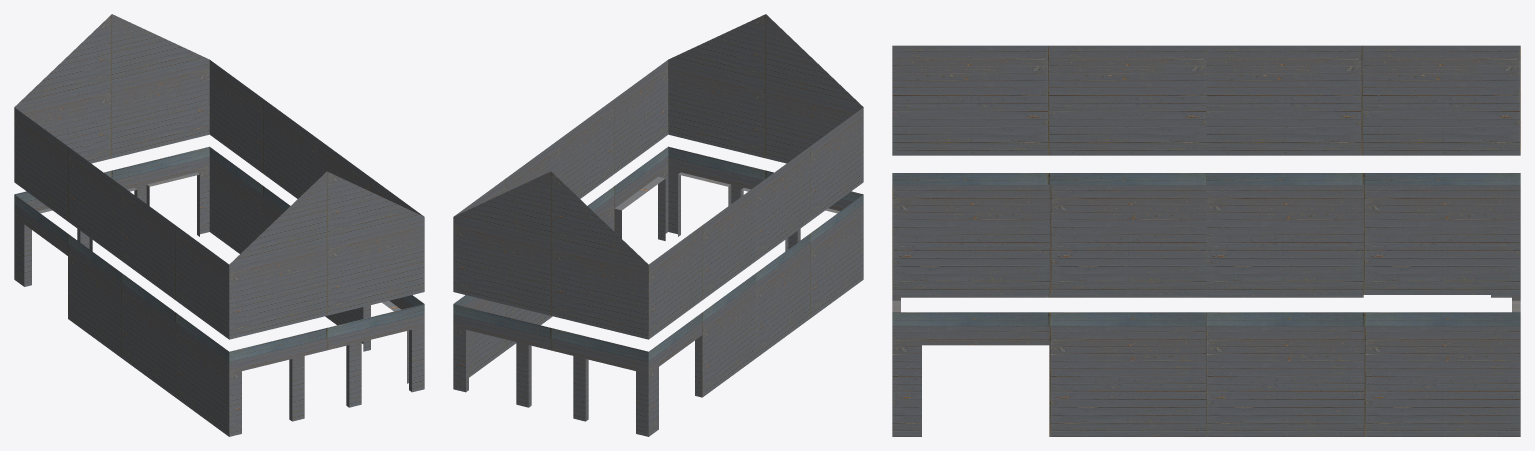
File: rural_woodenbuilding_5_rural_walltrim_1_0_lev2.glb
The picture shows the model from 3 angles, left to right: view 1: azimuth 30°, elevation 25°; view 2: azimuth 150°, elevation 25°; view 3: azimuth 270°, elevation 25°; orthographic projection. The views are drawn at different scales.
Visible parts, largest first — view 1: rural_woodenbuilding_5_rural_walltrim_1_0_lev2; view 2: rural_woodenbuilding_5_rural_walltrim_1_0_lev2; view 3: rural_woodenbuilding_5_rural_walltrim_1_0_lev2.
Part boxes in pixels (left/top/right/bottom): rural_woodenbuilding_5_rural_walltrim_1_0_lev2: left=14, top=14, right=424, bottom=436; rural_woodenbuilding_5_rural_walltrim_1_0_lev2: left=453, top=14, right=863, bottom=436; rural_woodenbuilding_5_rural_walltrim_1_0_lev2: left=892, top=45, right=1520, bottom=436.
Size of the model in its own units: 5.93 by 7.01 by 11.29.
Materials: 1 (1 with a texture image).
